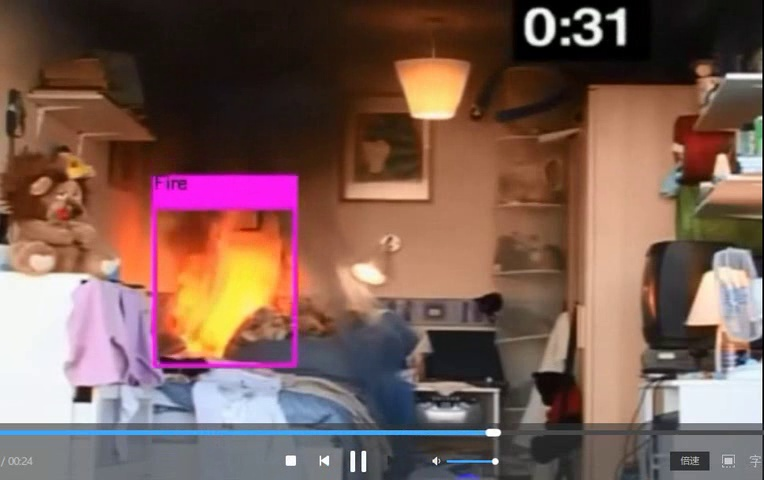fire: (161, 210, 284, 357)
